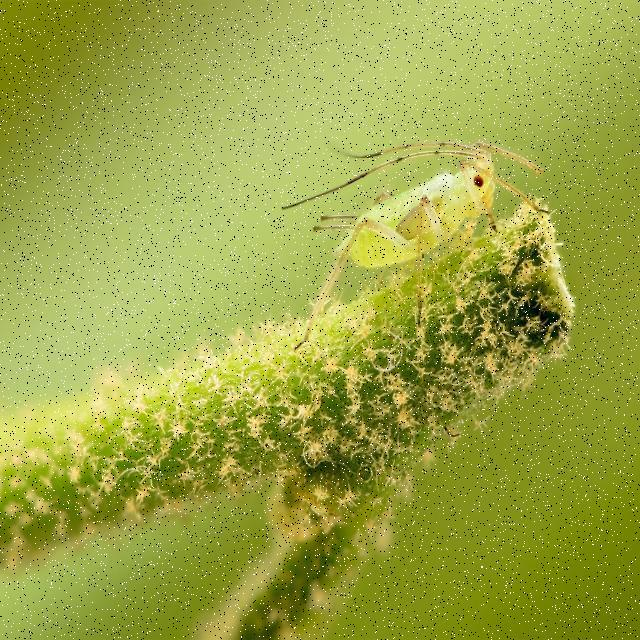Aphids: (9, 37, 43, 93), (250, 439, 284, 493), (107, 333, 141, 385), (144, 392, 181, 437), (182, 482, 214, 525), (186, 328, 214, 375), (237, 520, 266, 565), (175, 453, 206, 493), (355, 607, 390, 640), (58, 199, 84, 238), (309, 521, 331, 562)
